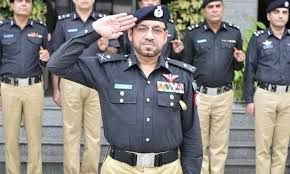uniform: (86, 23, 200, 170), (55, 3, 108, 171), (183, 14, 235, 170), (2, 14, 48, 162), (244, 17, 290, 162)
